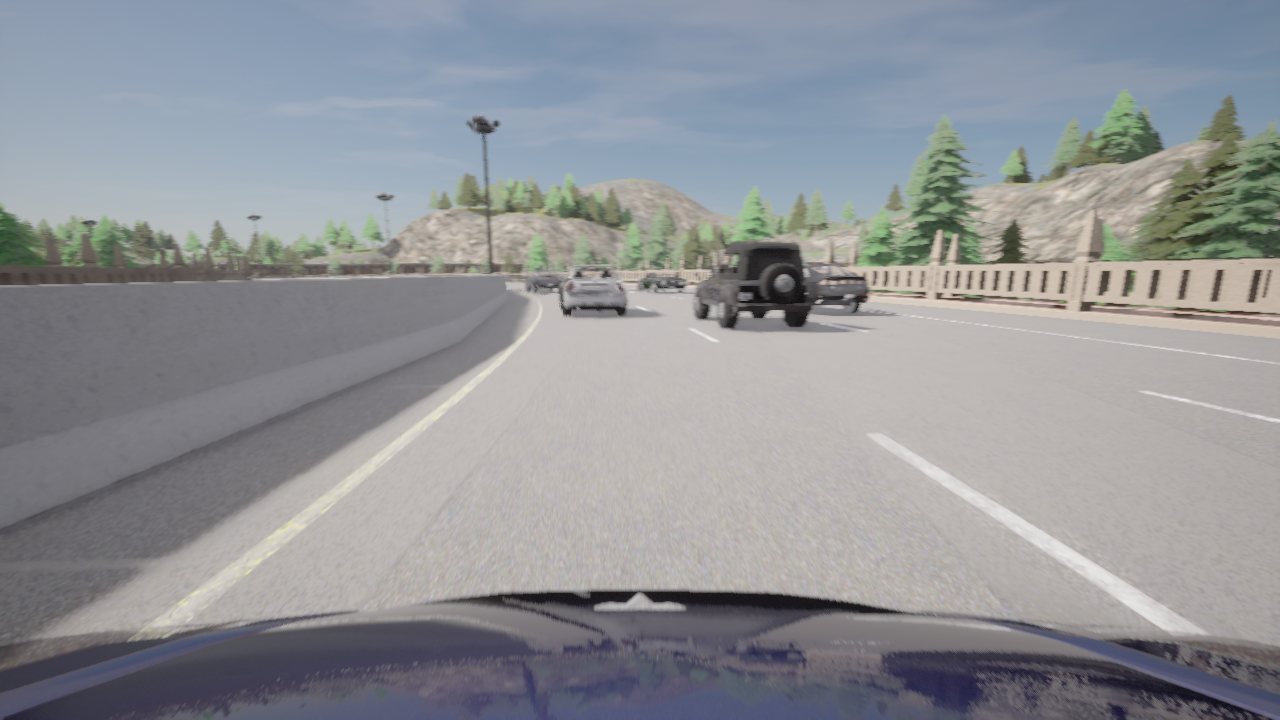cyclist: (0, 588, 1279, 719), (693, 241, 812, 328), (558, 264, 627, 316), (804, 263, 869, 312), (638, 272, 686, 292), (526, 269, 561, 292)
